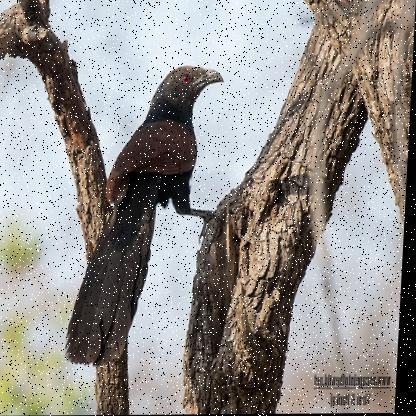Burung: (69, 65, 226, 365)
